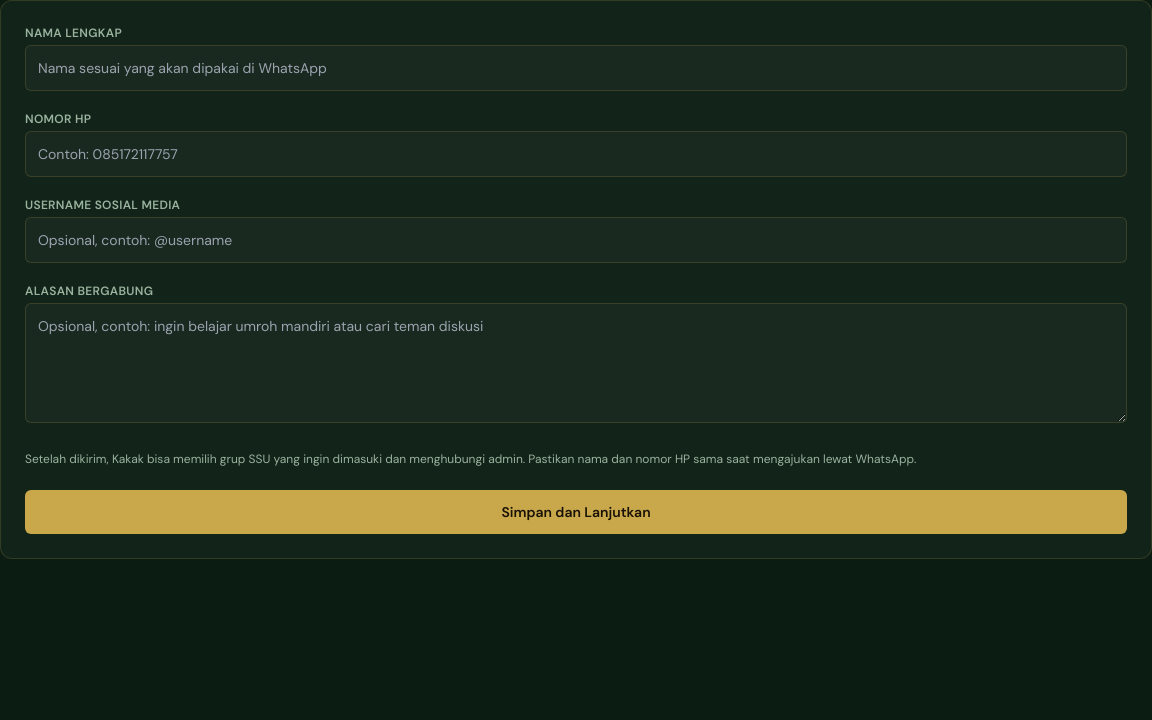
Test: CommunityJoinForm submission › submits minimal request and shows the group choices
Type "Bayu Aslama" into the field labelled "Nama lengkap" at point(576, 68), box [25,45,1127,91]
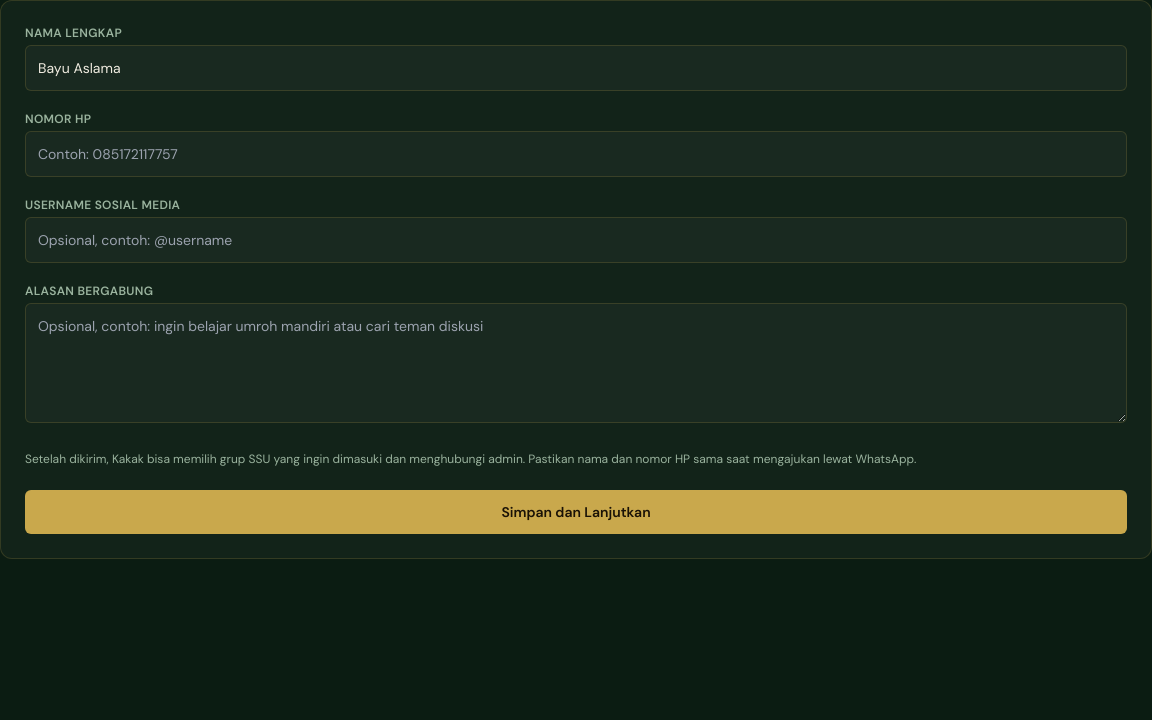
Type "085172117757" into the field labelled "Nomor HP" at point(576, 154), box [25,131,1127,177]
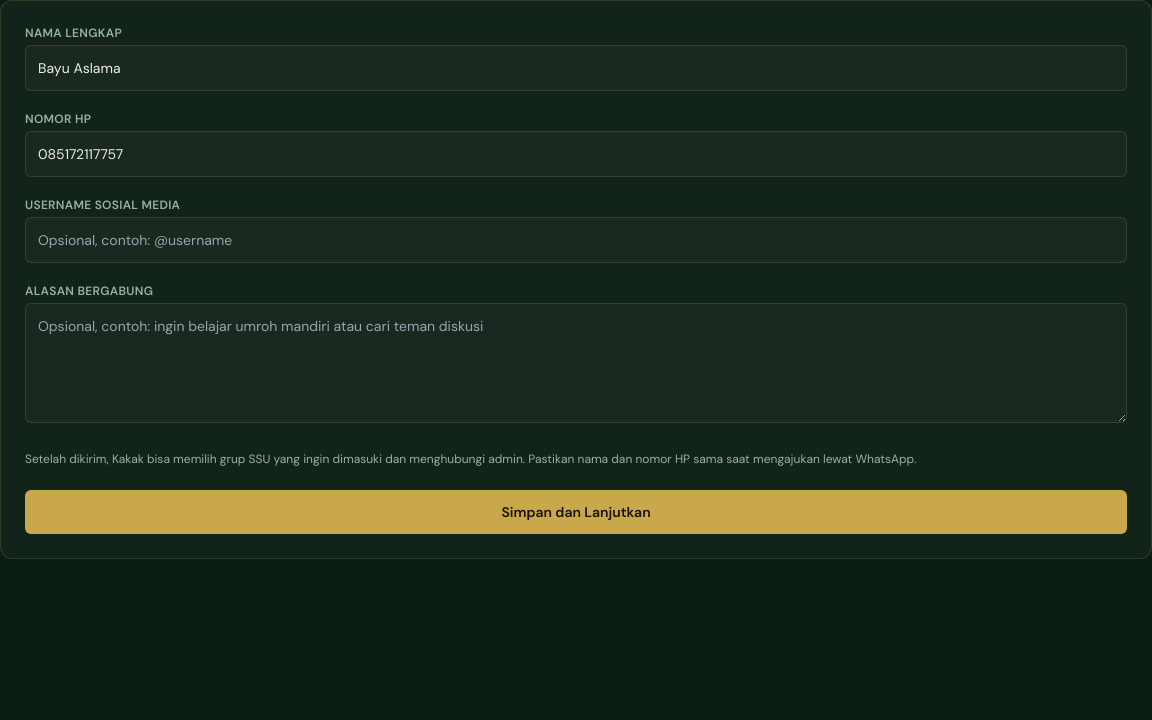
Click the button "Simpan dan Lanjutkan" at point(576, 512), box [25,490,1127,534]
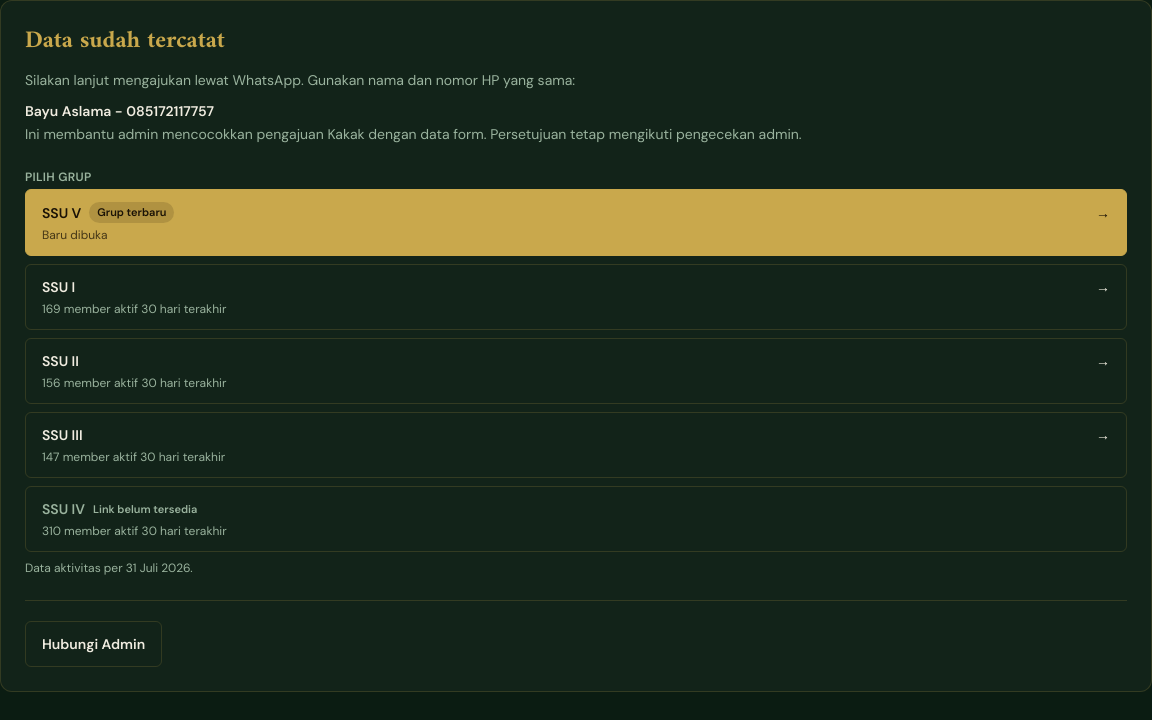
expect the heading "Data sudah tercatat" is shown: met, box [25,20,225,62]
expect the text "Gunakan nama dan nomor HP yang sama" is shown: met, box [25,71,575,89]
